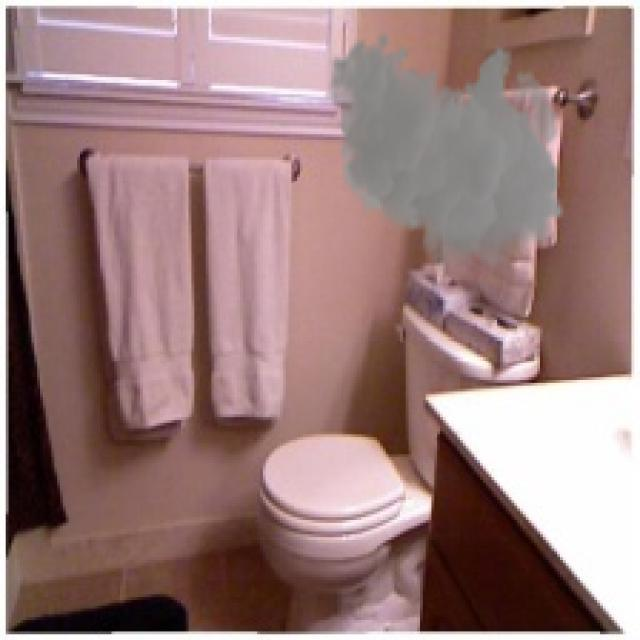Smoke: (328, 31, 566, 280)
